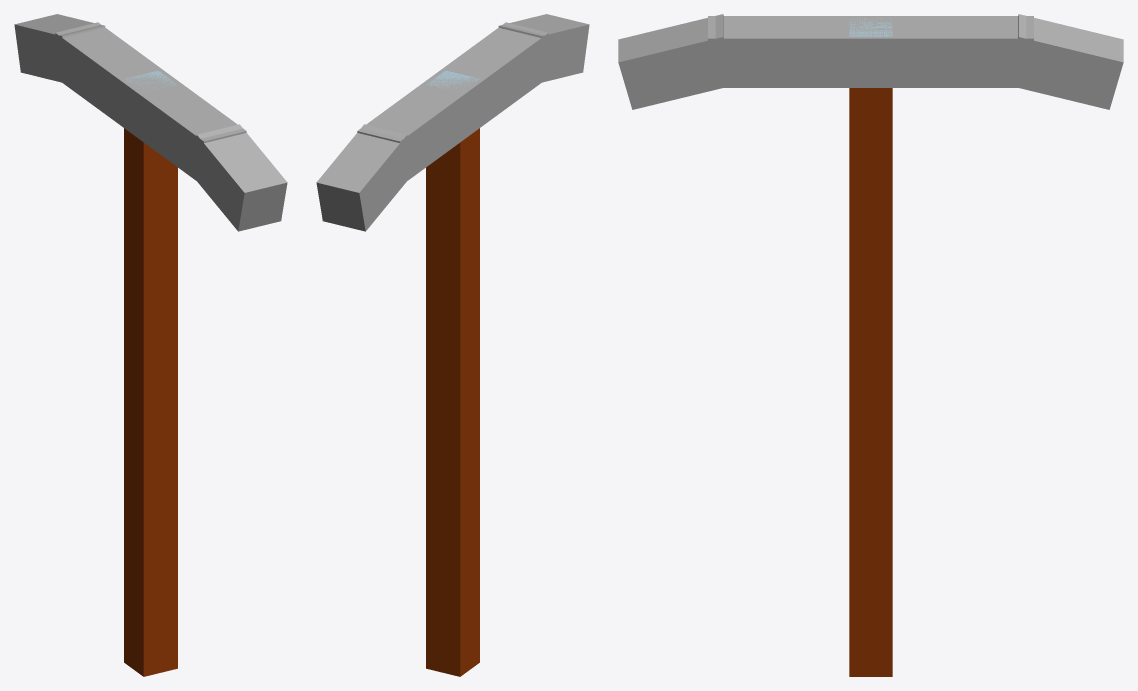
The model's file is Pickaxe.gltf.
3 renders of one model, left to right at view 1: azimuth 30°, elevation 25°; view 2: azimuth 150°, elevation 25°; view 3: azimuth 270°, elevation 25°, orthographic. The views are drawn at different scales.
Parts seen in each view (by area): view 1: mesh (×4); view 2: mesh (×4); view 3: mesh (×4).
Boxes of the visible parts, x1,y1,x2,y2 form: mesh (×4): (14,14,287,676); mesh (×4): (316,14,589,676); mesh (×4): (618,14,1123,676).
Size of the model in its own units: 0.0625 by 0.8148 by 0.581.
Materials: 1 (1 with a texture image).
